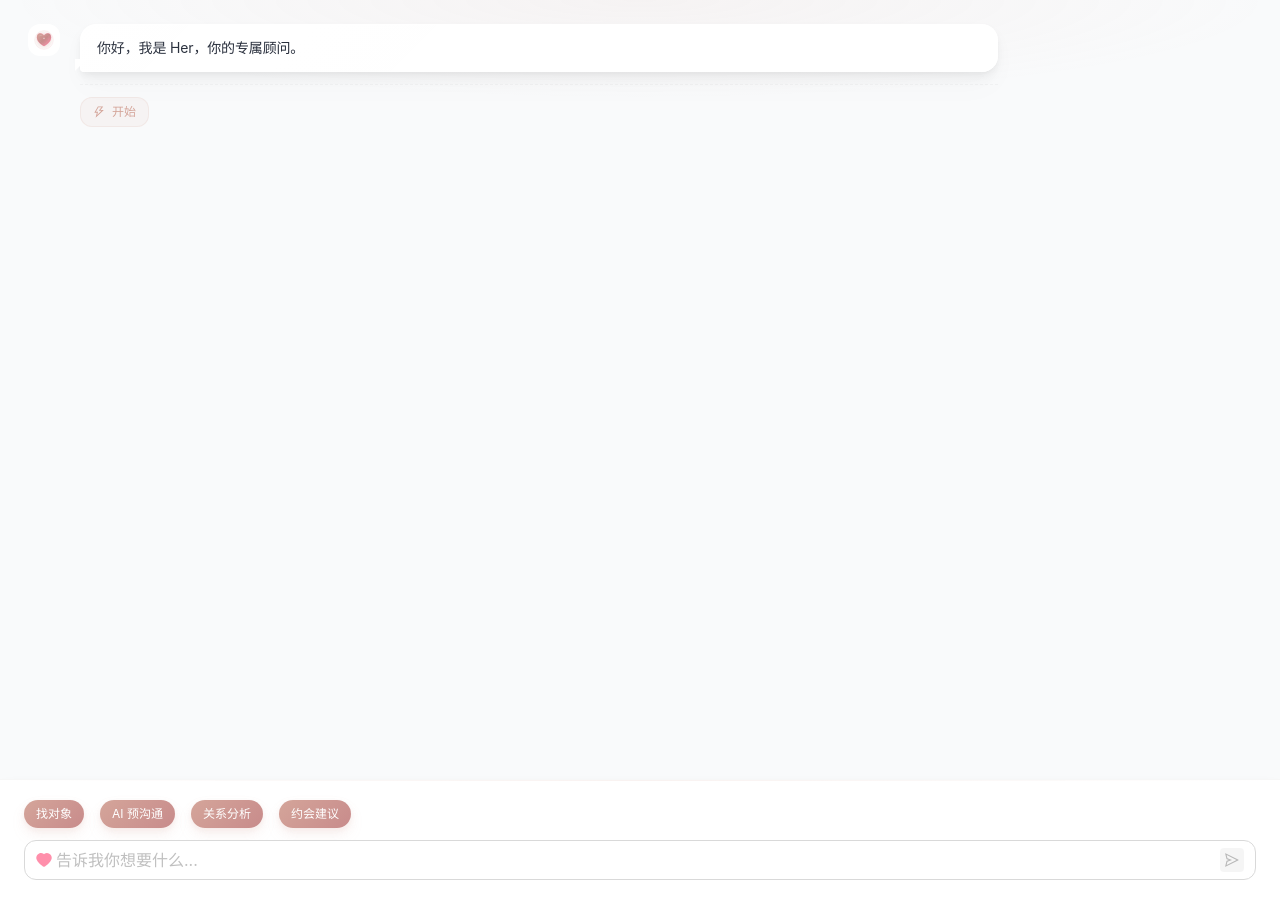
Test case: ChatInterface Component › Message Handling › should respond to greeting
Type "你好" into the field with placeholder "告诉我你想要什么...".
click(636, 860); type("你好")  # box [56, 848, 1216, 872]
Then press Enter
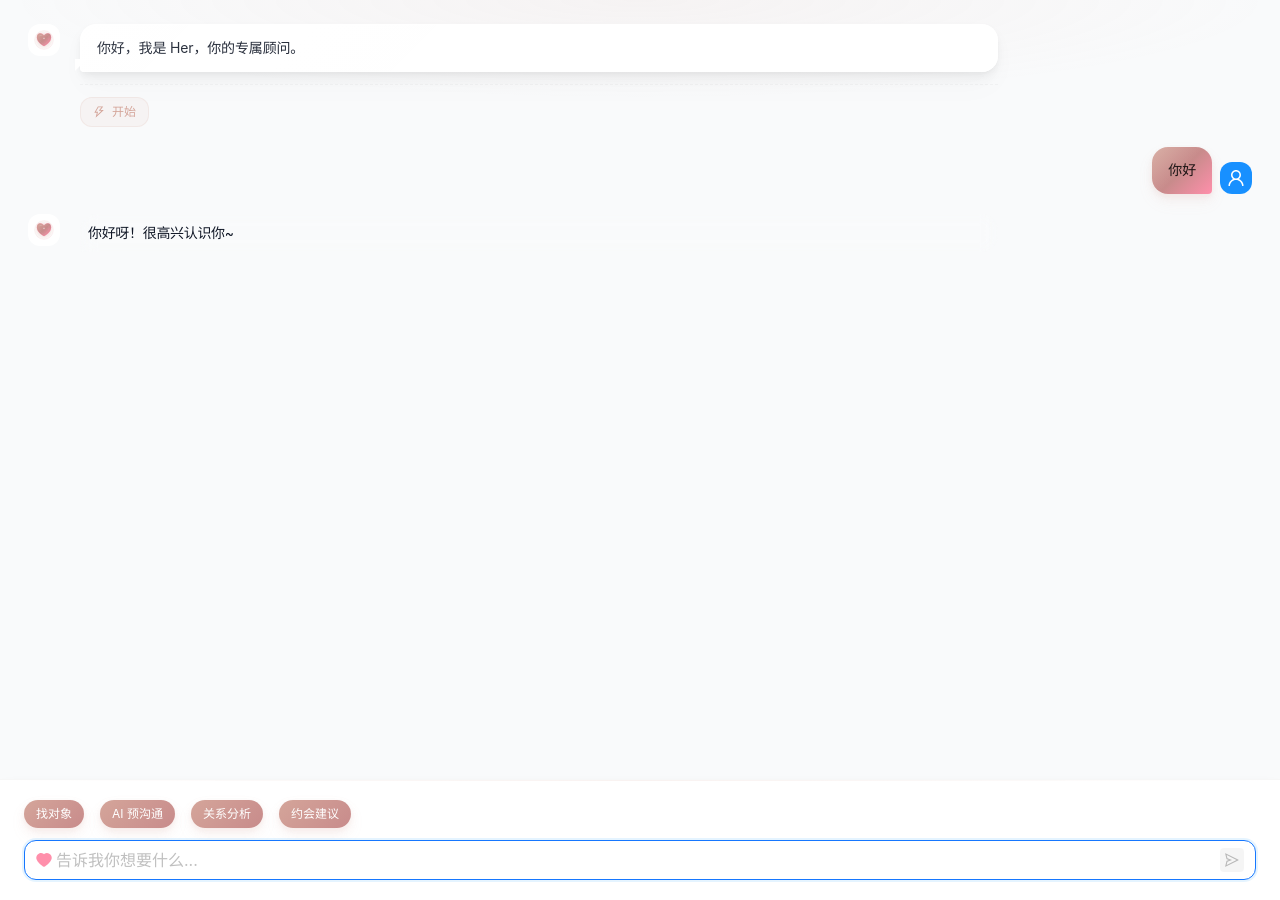
Check: the text "你好呀！很高兴认识你~" is shown, box [88, 224, 234, 240]
